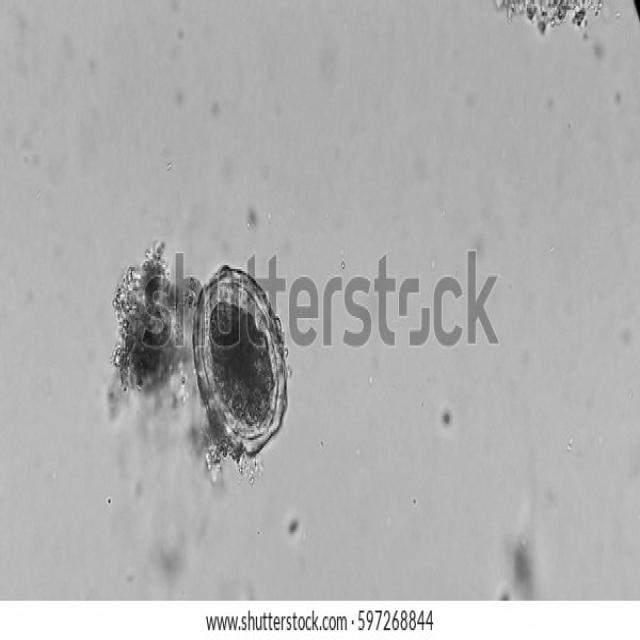Ascaris Lumbricoides: (180, 252, 296, 468)
